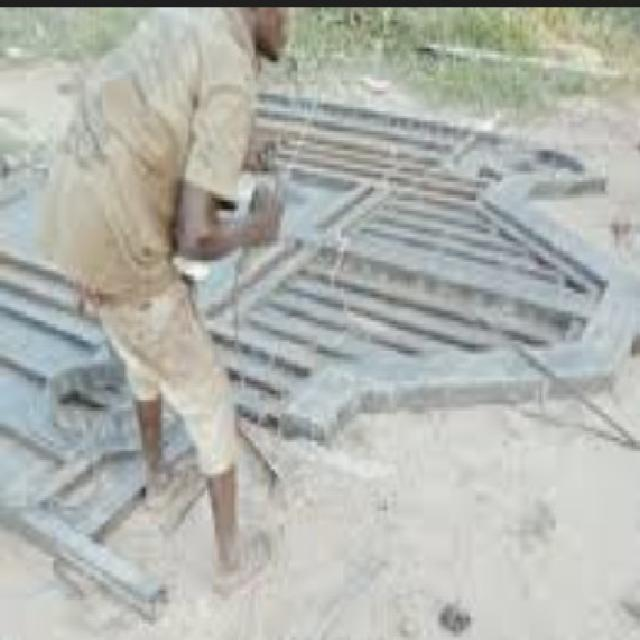no-boots: (197, 462, 301, 596), (119, 383, 191, 532)
no-gloves: (181, 167, 318, 263)
no-vest: (70, 14, 228, 252)
person: (43, 4, 386, 604)
